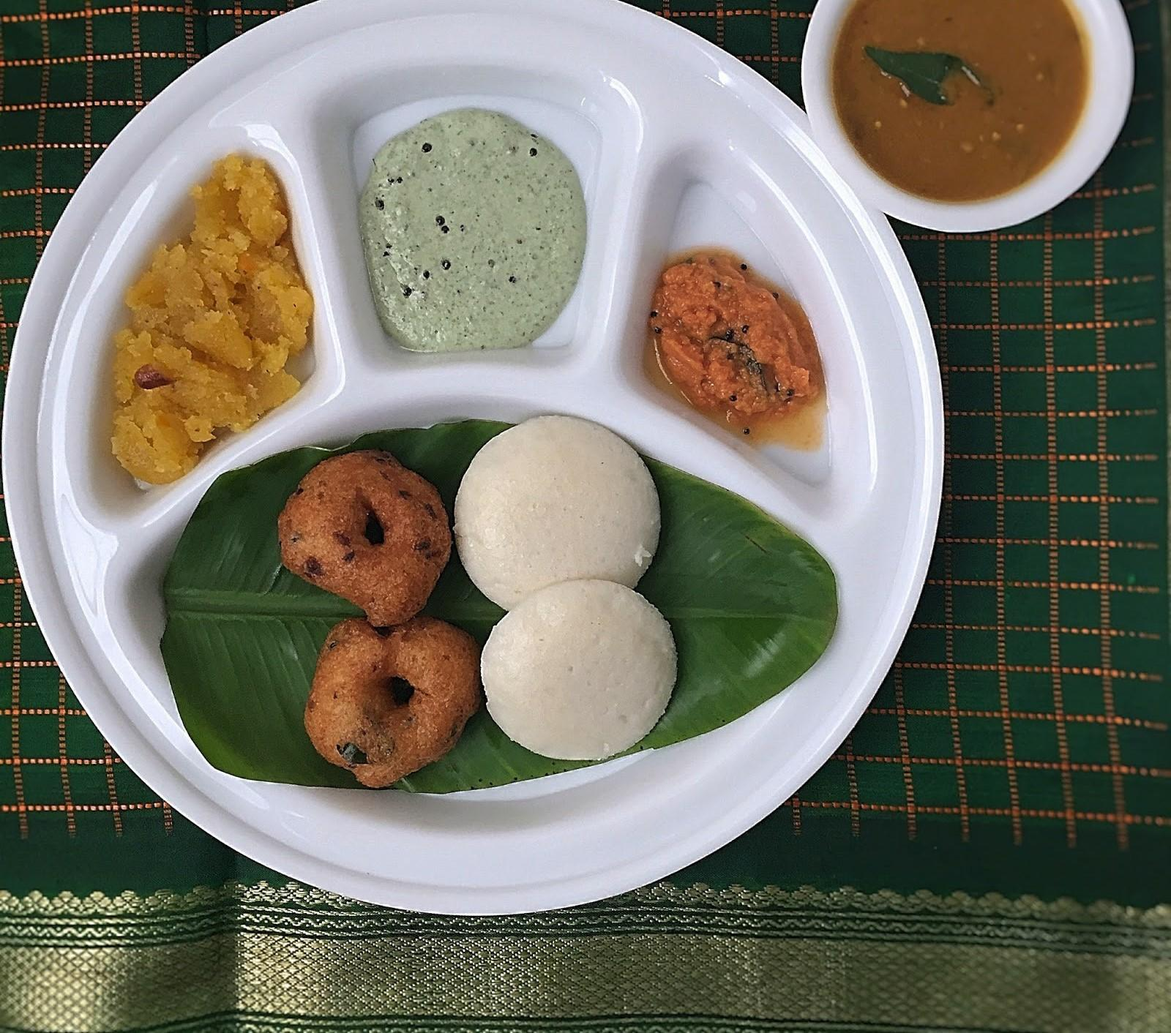GreenChutney: (364, 105, 589, 353)
Idli: (457, 407, 669, 617), (464, 572, 689, 763)
